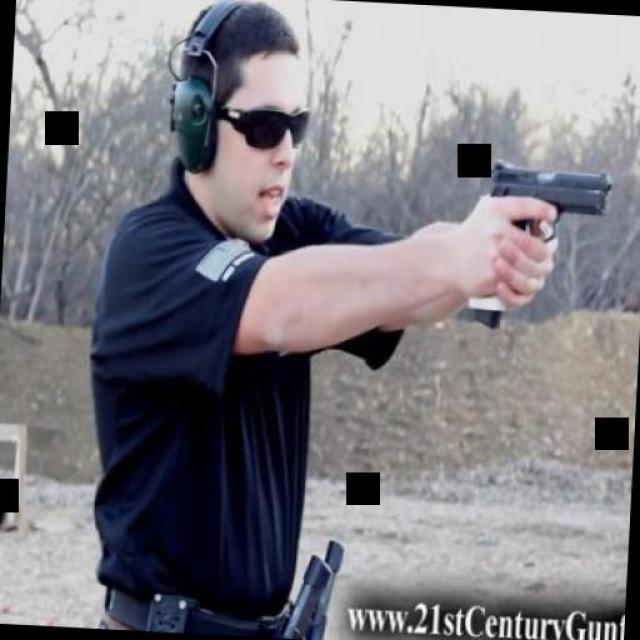gun: (460, 154, 614, 332)
